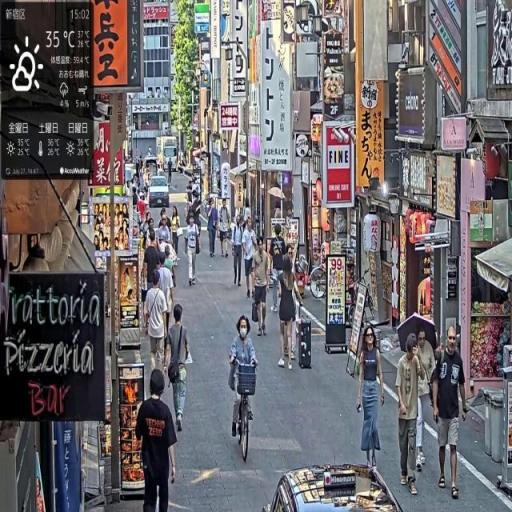person: (433, 326, 471, 500), (136, 369, 180, 512), (396, 333, 426, 494), (356, 327, 387, 476), (228, 312, 260, 442), (412, 327, 439, 471), (164, 303, 193, 433), (278, 252, 303, 371), (147, 271, 170, 376), (253, 239, 271, 338), (242, 216, 259, 303), (185, 212, 201, 287), (231, 213, 246, 291), (219, 197, 232, 263), (208, 197, 221, 259), (171, 207, 182, 262)
